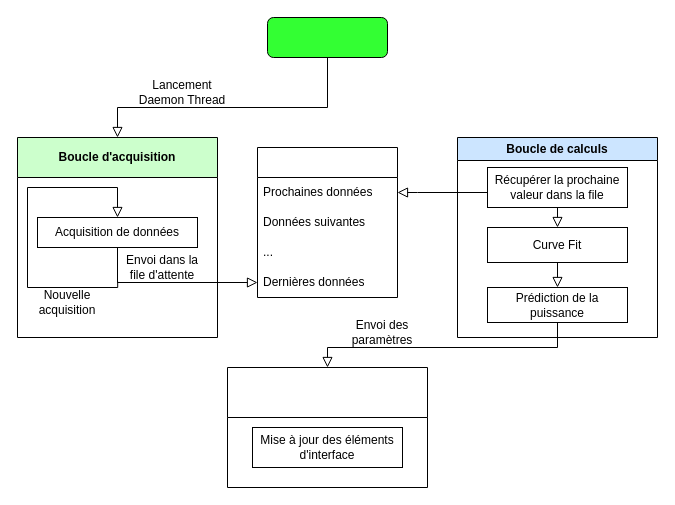
This 675x505 diagram has some shape labels left out. The box of each missing label's shape, as (x1, y1, x2, y2) in pixels:
Boucle de mise à jour de l'interface: (226, 366, 428, 488)
File d'attente: (256, 146, 398, 298)
Lancement de l'acquisition: (266, 16, 388, 58)
